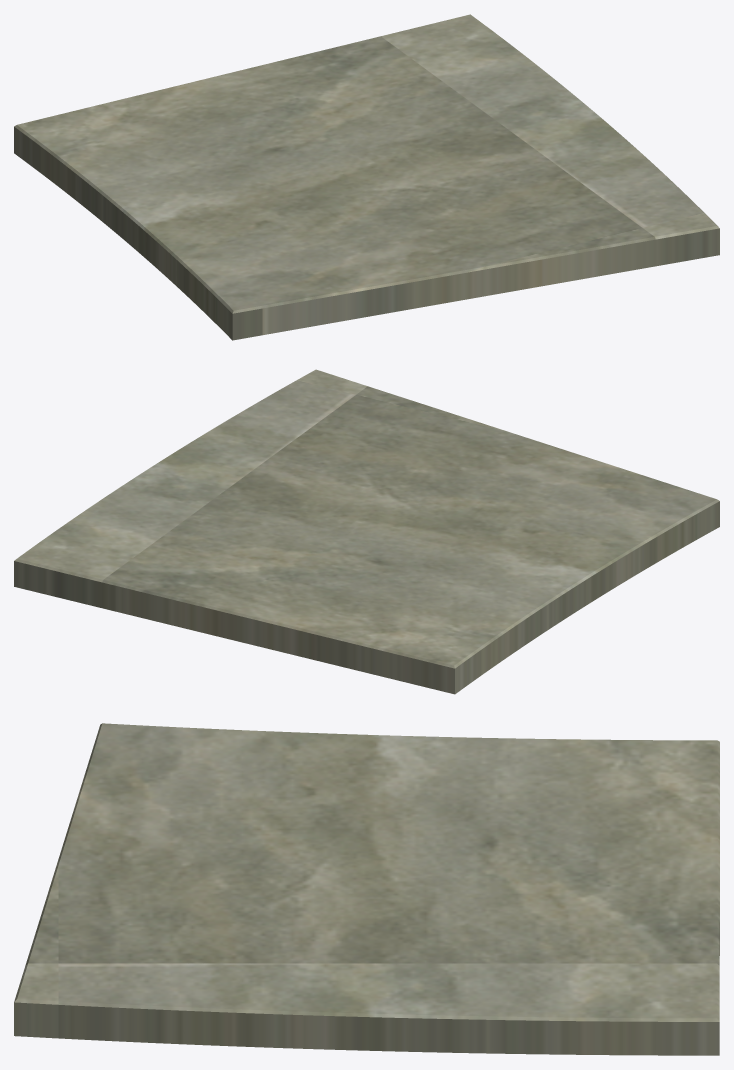
Rendered from f03-t-stone-radial-wedge.glb.
3 views of the same model, one above another, from view 1: azimuth 30°, elevation 25°; view 2: azimuth 150°, elevation 25°; view 3: azimuth 270°, elevation 25° (orthographic). The views are drawn at different scales.
Parts seen in each view (by area): view 1: f03-t-stone-radial-wedge; view 2: f03-t-stone-radial-wedge; view 3: f03-t-stone-radial-wedge.
Part boxes in pixels (left/top/right/bottom): f03-t-stone-radial-wedge: left=14, top=14, right=719, bottom=340; f03-t-stone-radial-wedge: left=14, top=369, right=719, bottom=694; f03-t-stone-radial-wedge: left=14, top=723, right=719, bottom=1055.
Size of the model in its own units: 1.06 by 0.06 by 1.06.
Materials: 1 (1 with a texture image).
